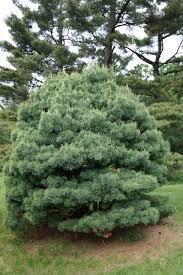tree: (7, 65, 171, 243)
